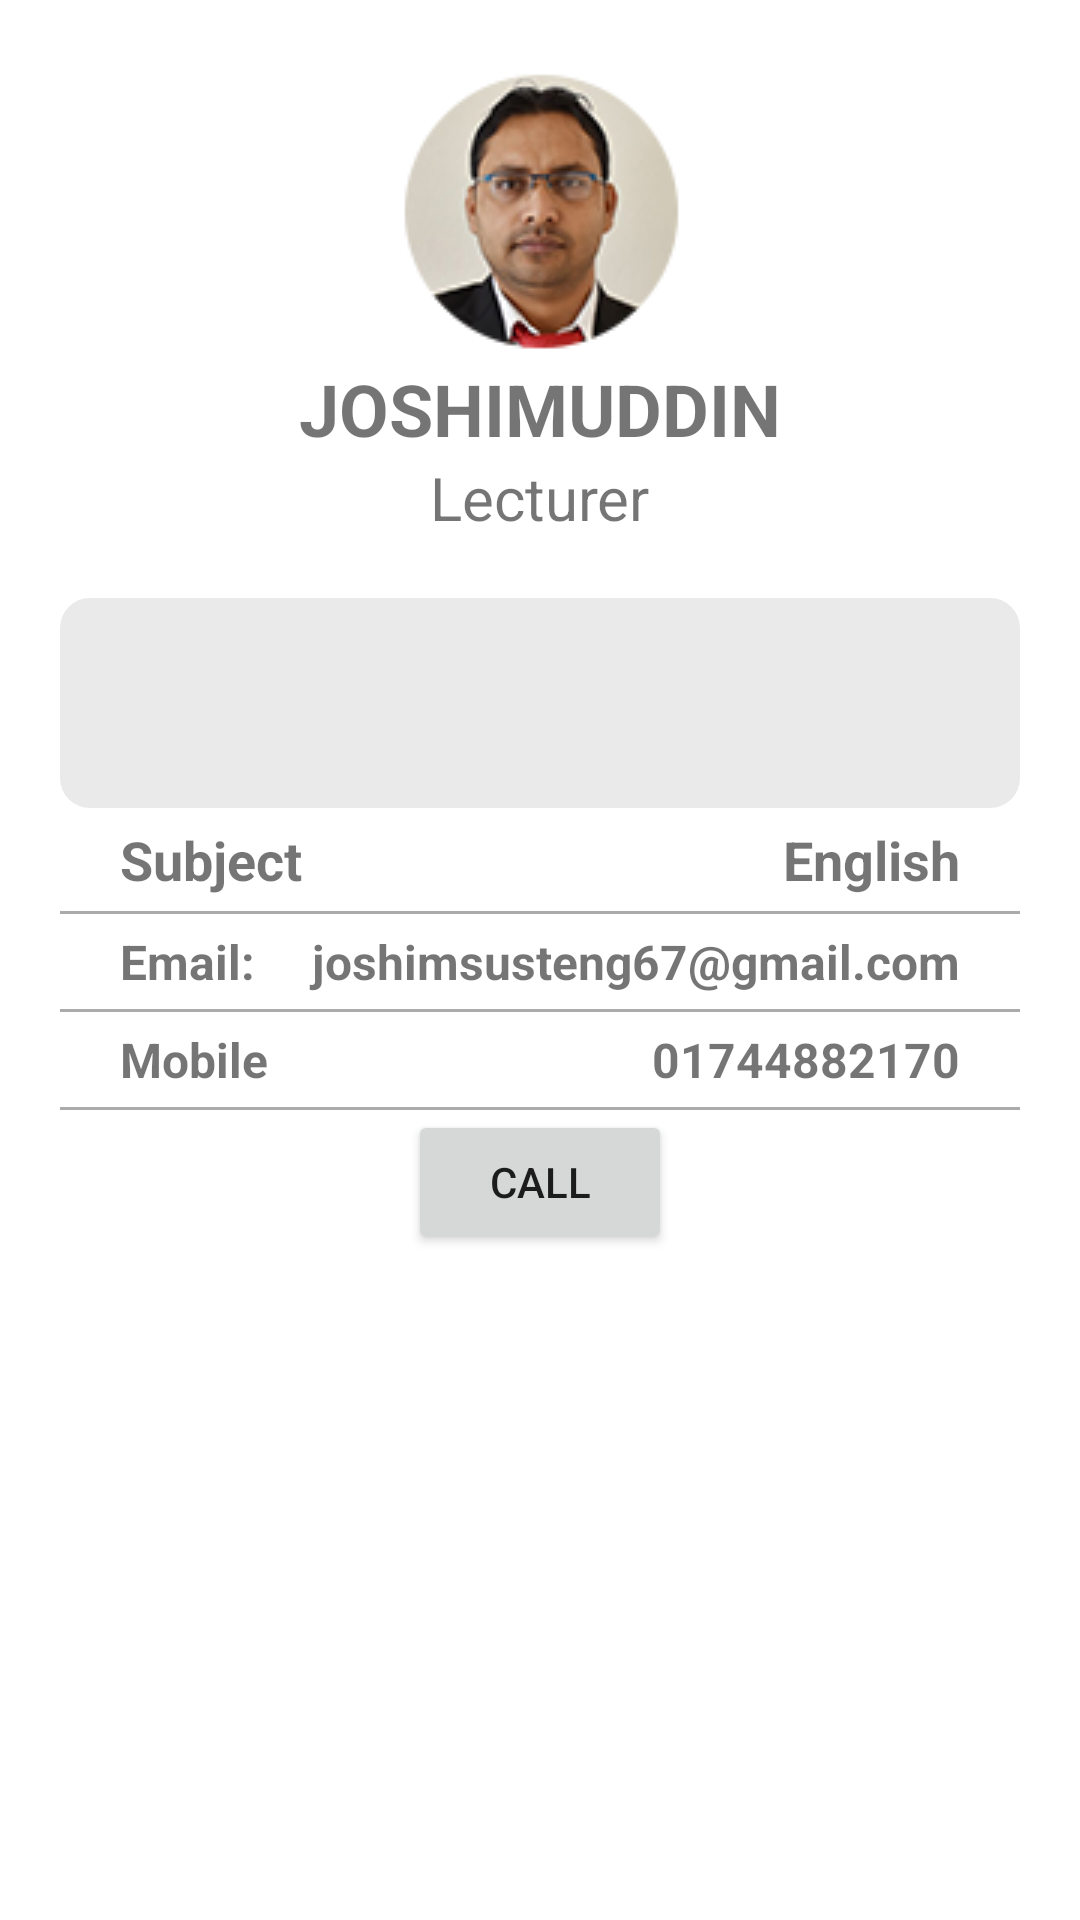

Icon click points for this 1080 × 1920 phone screenshot, format [x,y]:
sir: [541,212]
